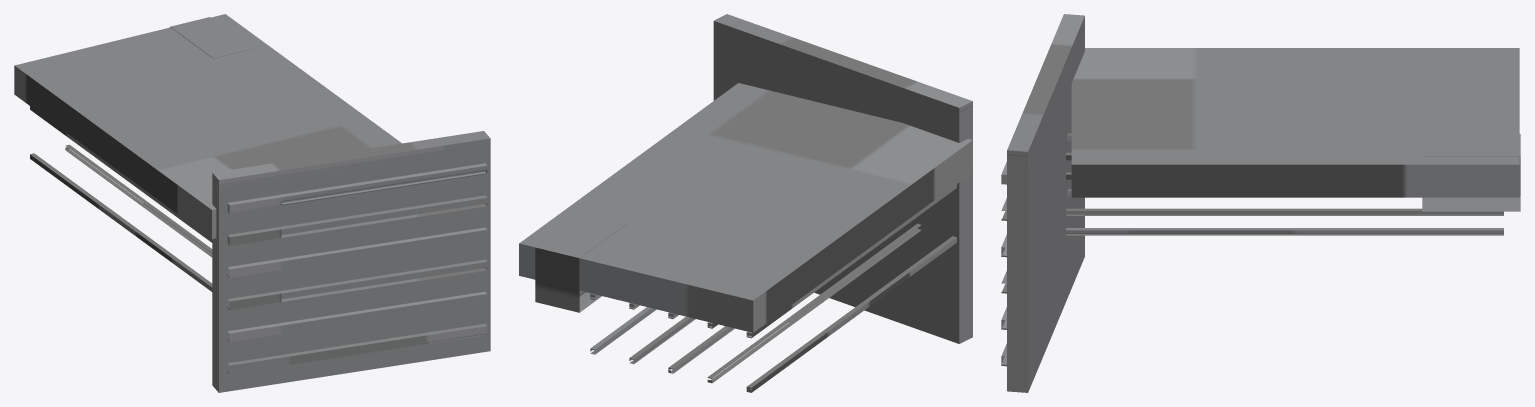
3 views of the same model, side by side, from view 1: azimuth 30°, elevation 25°; view 2: azimuth 150°, elevation 25°; view 3: azimuth 270°, elevation 25° (orthographic). The views are drawn at different scales.
Size of the model in its own units: 0.9891 by 0.796 by 1.55.
